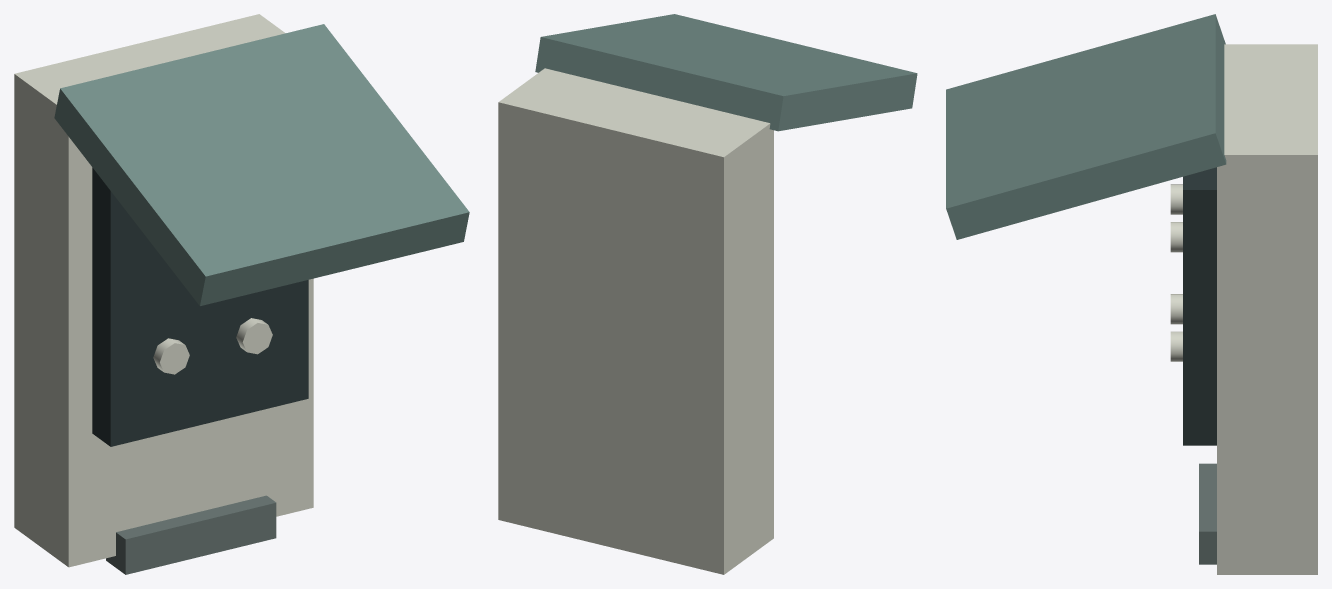
3 views of the same model, side by side, from view 1: azimuth 30°, elevation 25°; view 2: azimuth 150°, elevation 25°; view 3: azimuth 270°, elevation 25° (orthographic). The views are drawn at different scales.
Visible parts, largest first — view 1: part-7, part-1, part-2, part-8, part-4, part-3; view 2: part-1, part-7; view 3: part-1, part-7, part-2, part-8.
Part boxes in pixels (<box>): part-7: <box>54,24,469,305</box>; part-1: <box>14,14,313,567</box>; part-2: <box>92,167,308,446</box>; part-8: <box>106,495,276,574</box>; part-4: <box>236,318,272,354</box>; part-3: <box>153,338,189,374</box>; part-1: <box>498,68,773,574</box>; part-7: <box>535,14,917,131</box>; part-1: <box>1217,44,1317,574</box>; part-7: <box>946,14,1226,239</box>; part-2: <box>1183,167,1216,445</box>; part-8: <box>1199,463,1216,564</box>.
Size of the model in its own units: 0.14 by 0.2503 by 0.1845.
